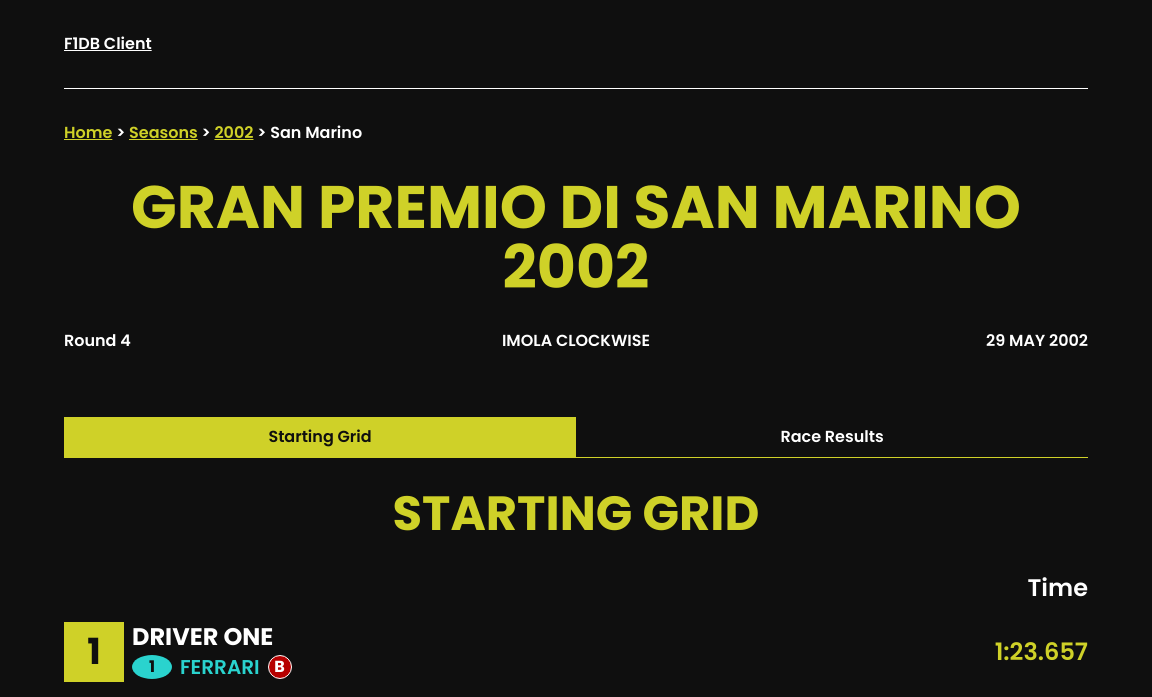
it: SeasonGrandPrixPage › should switch to the race results tab by clicking on its tab head
Click the button "Race Results" at (832, 437), box left=576, top=417, right=1088, bottom=457
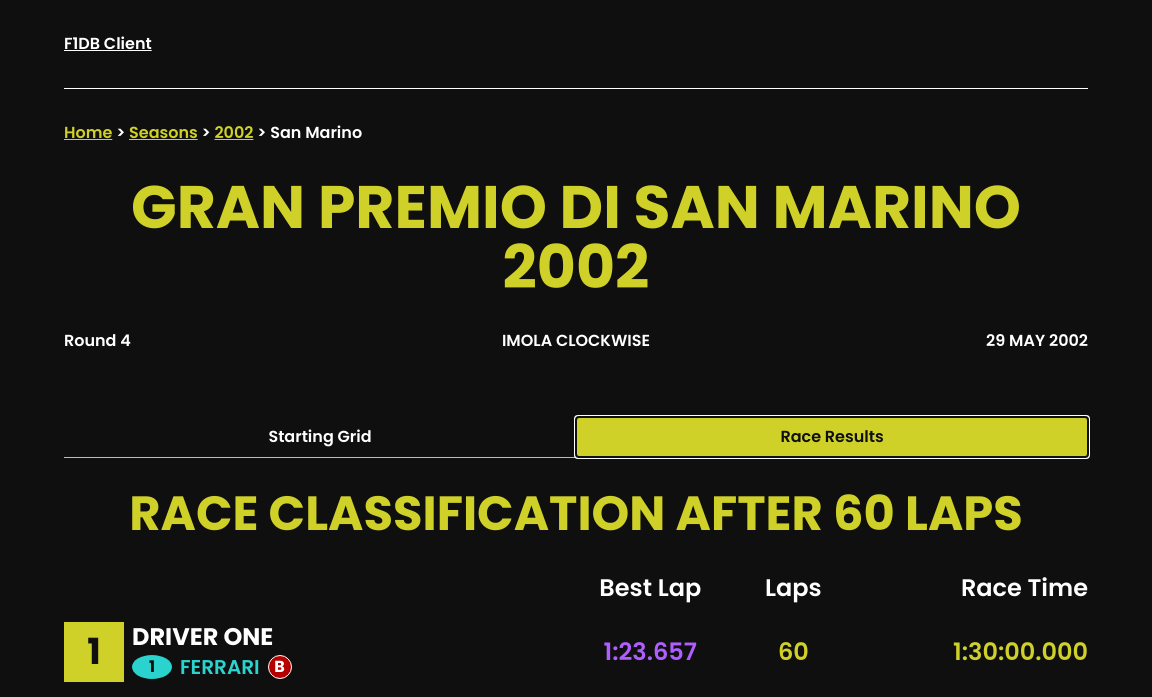
Expected: the heading "Race classification after 60 laps" is shown, left=64, top=490, right=1088, bottom=538
